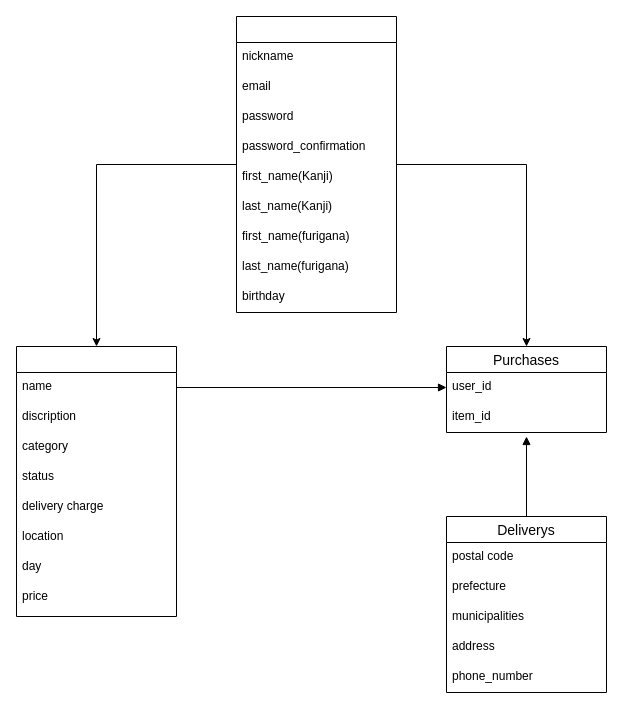
This 623x709 diagram has some shape labels left out. The box of each missing label's shape, as (x1, y1, x2, y2) in pixels:
Items: (16, 346, 176, 616)
Users: (236, 16, 396, 312)
